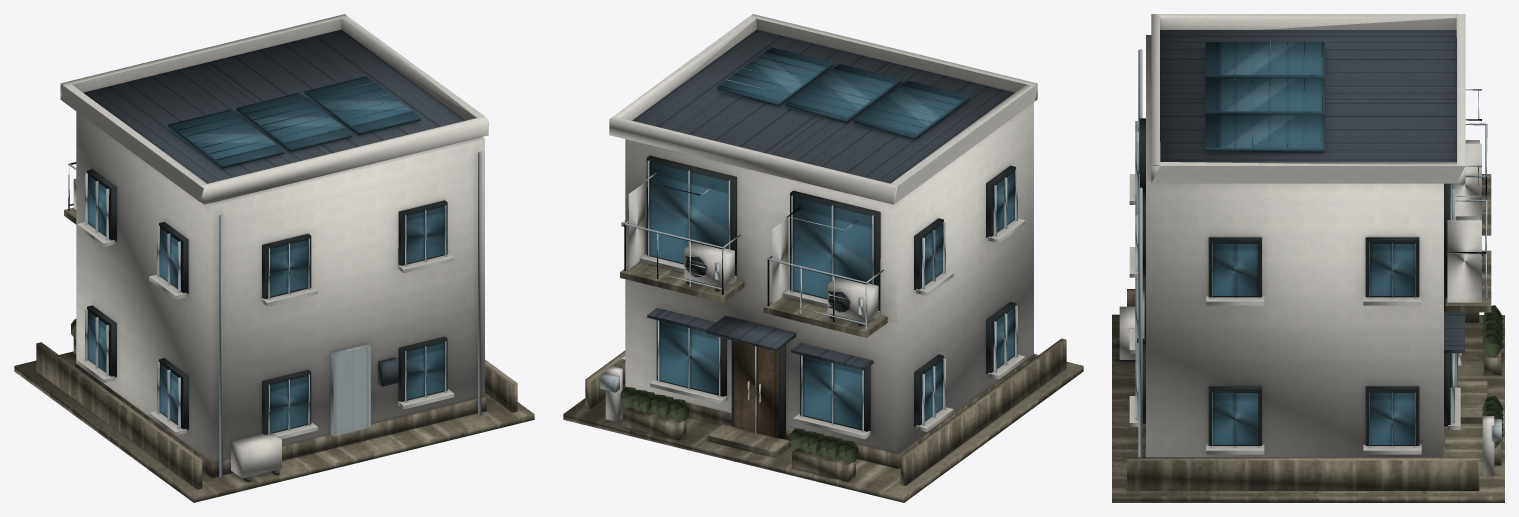
Rendered from residential_002.obj.
3 renders of one model, left to right at view 1: azimuth 30°, elevation 25°; view 2: azimuth 150°, elevation 25°; view 3: azimuth 270°, elevation 25°, orthographic. The views are drawn at different scales.
Visible parts, largest first — view 1: residential_002; view 2: residential_002; view 3: residential_002.
Boxes of the visible parts, left/top/right/bottom form: residential_002: left=14, top=14, right=534, bottom=502; residential_002: left=563, top=14, right=1083, bottom=502; residential_002: left=1112, top=14, right=1504, bottom=502.
Size of the model in its own units: 7.47 by 6.17 by 6.82.
Materials: 1 (1 with a texture image).
